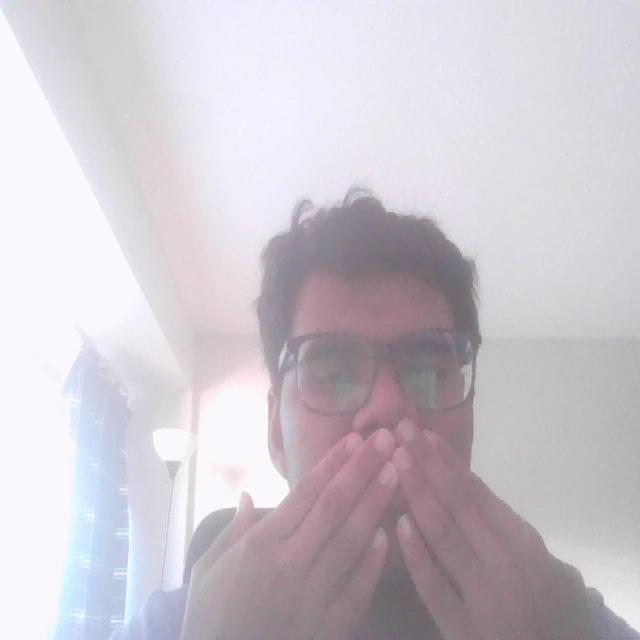Thanx: (192, 407, 585, 640)
